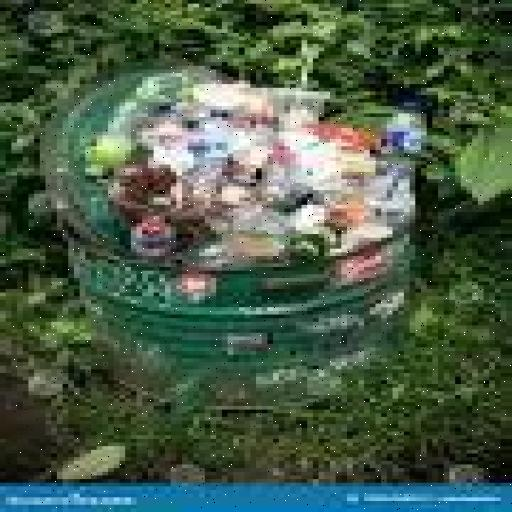poubelle_pleine: (8, 48, 462, 428)
